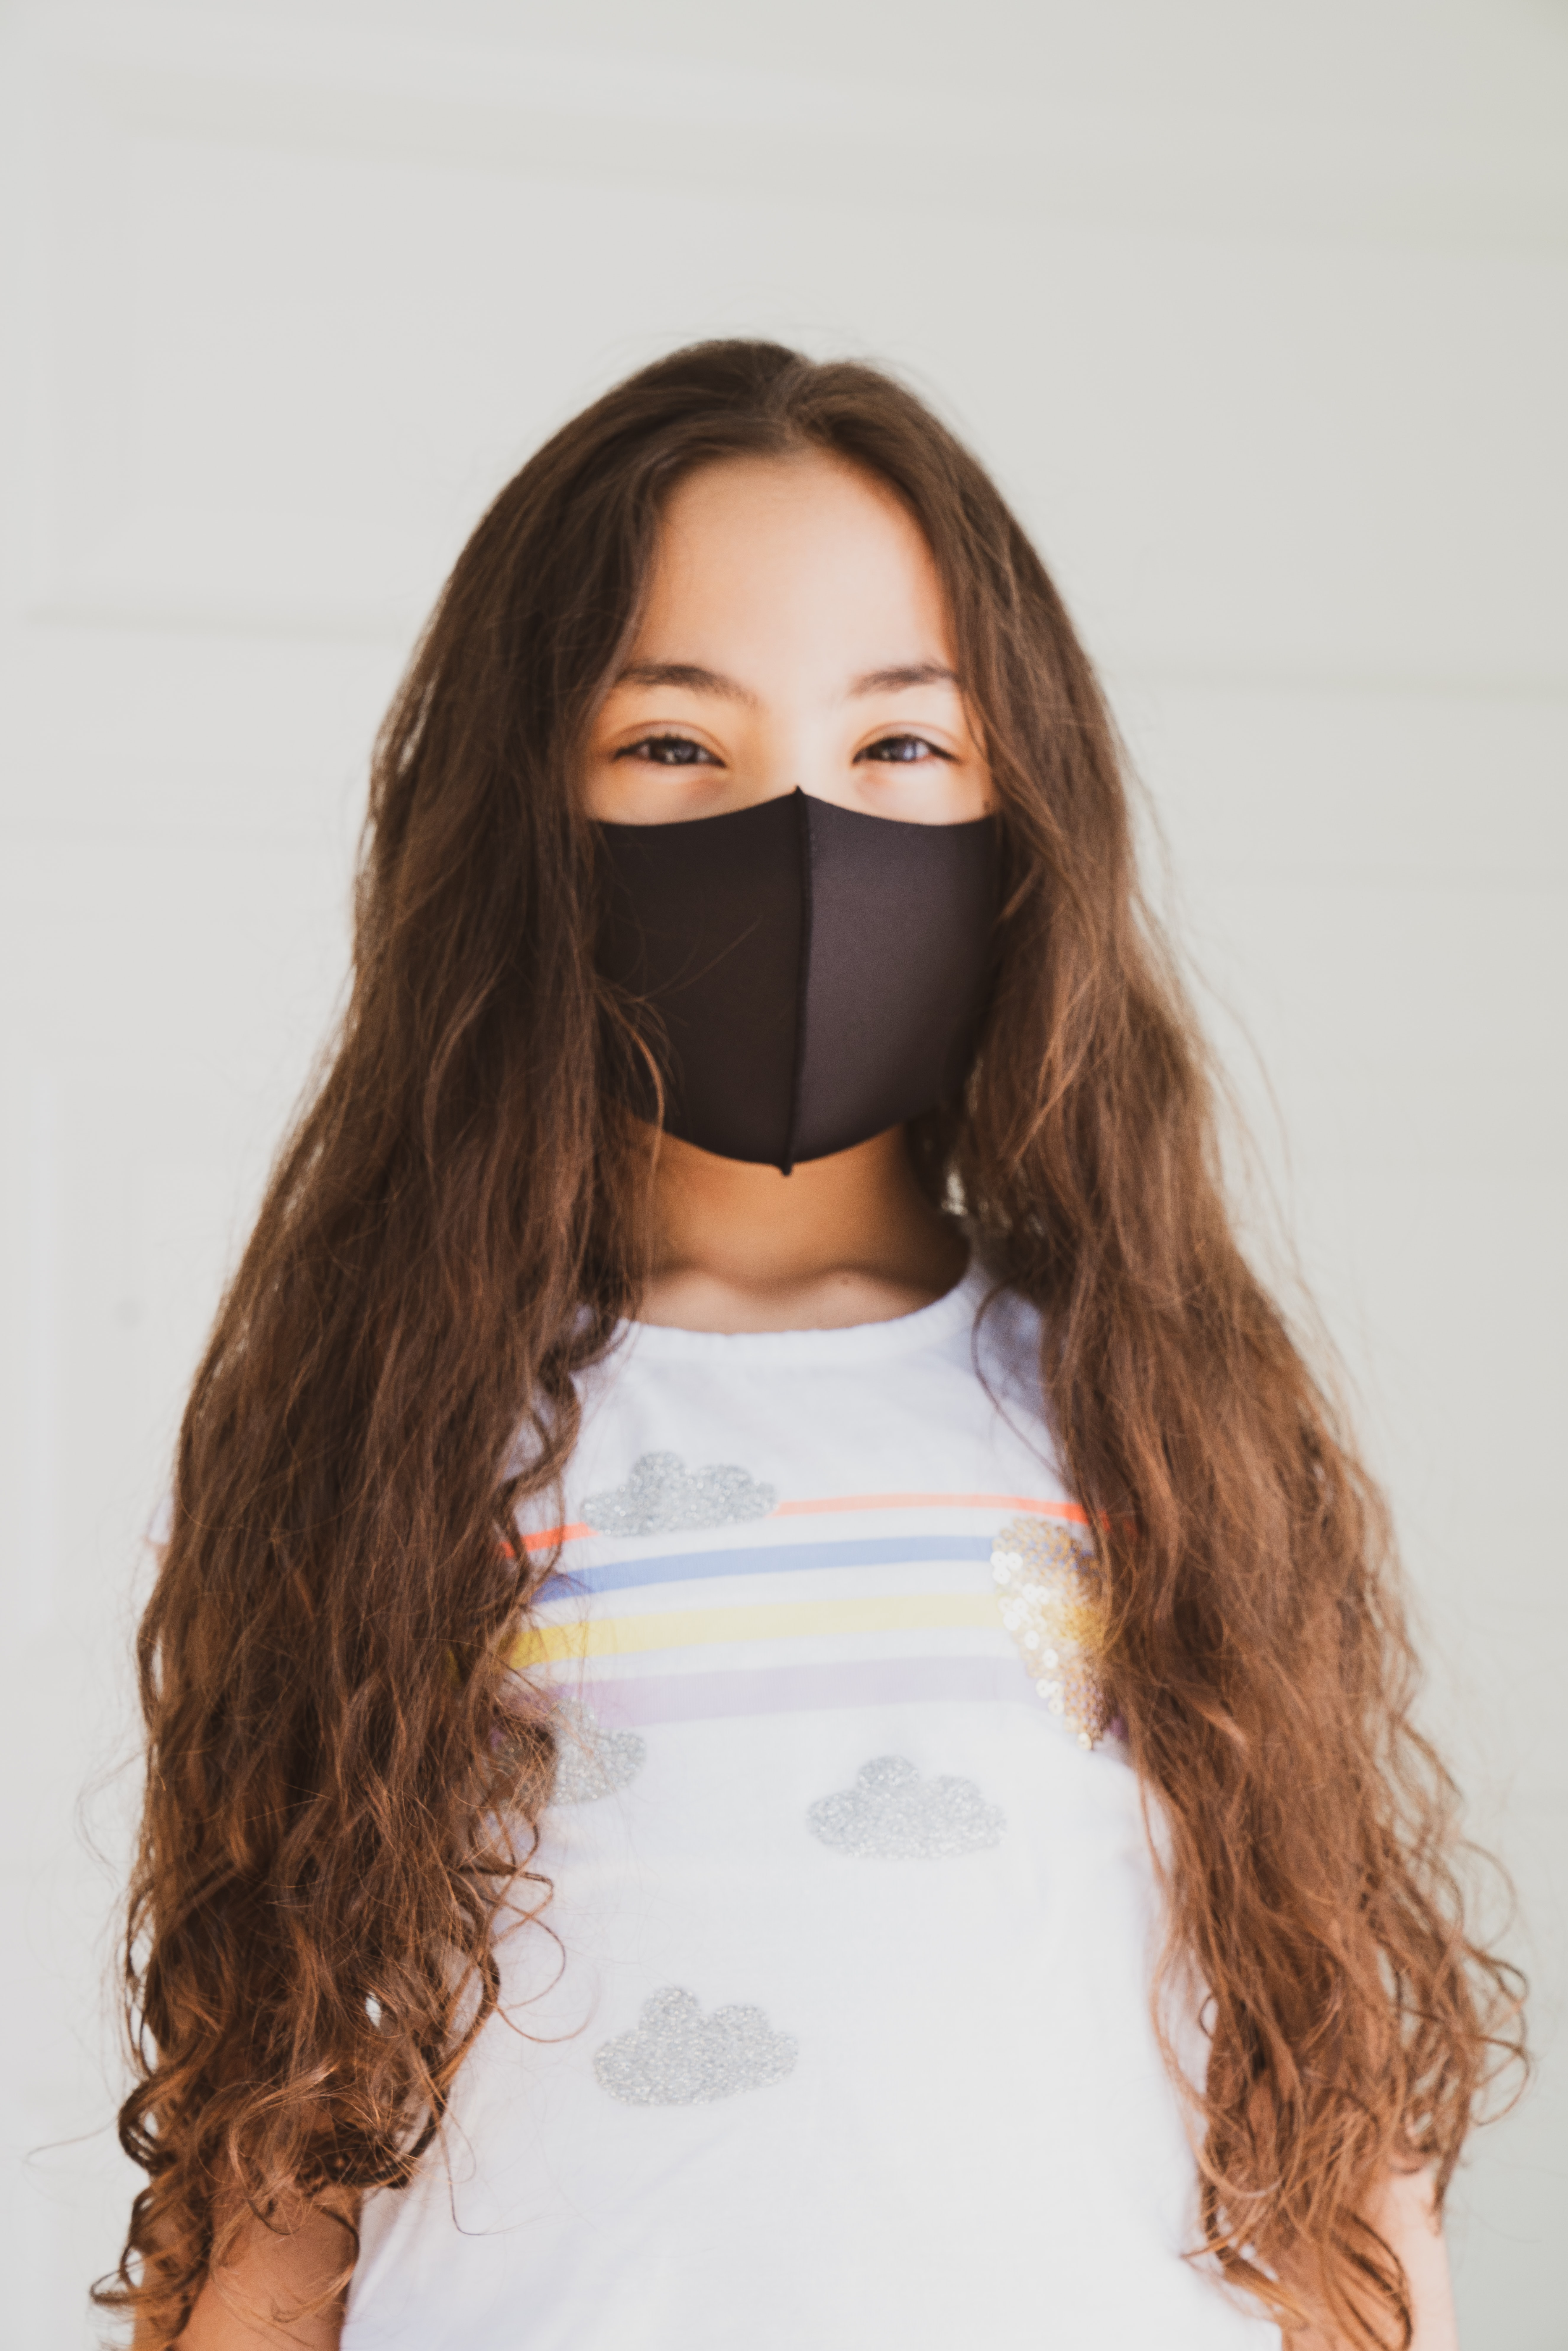mask: (547, 771, 1031, 1180)
person: (128, 328, 1504, 2351)
